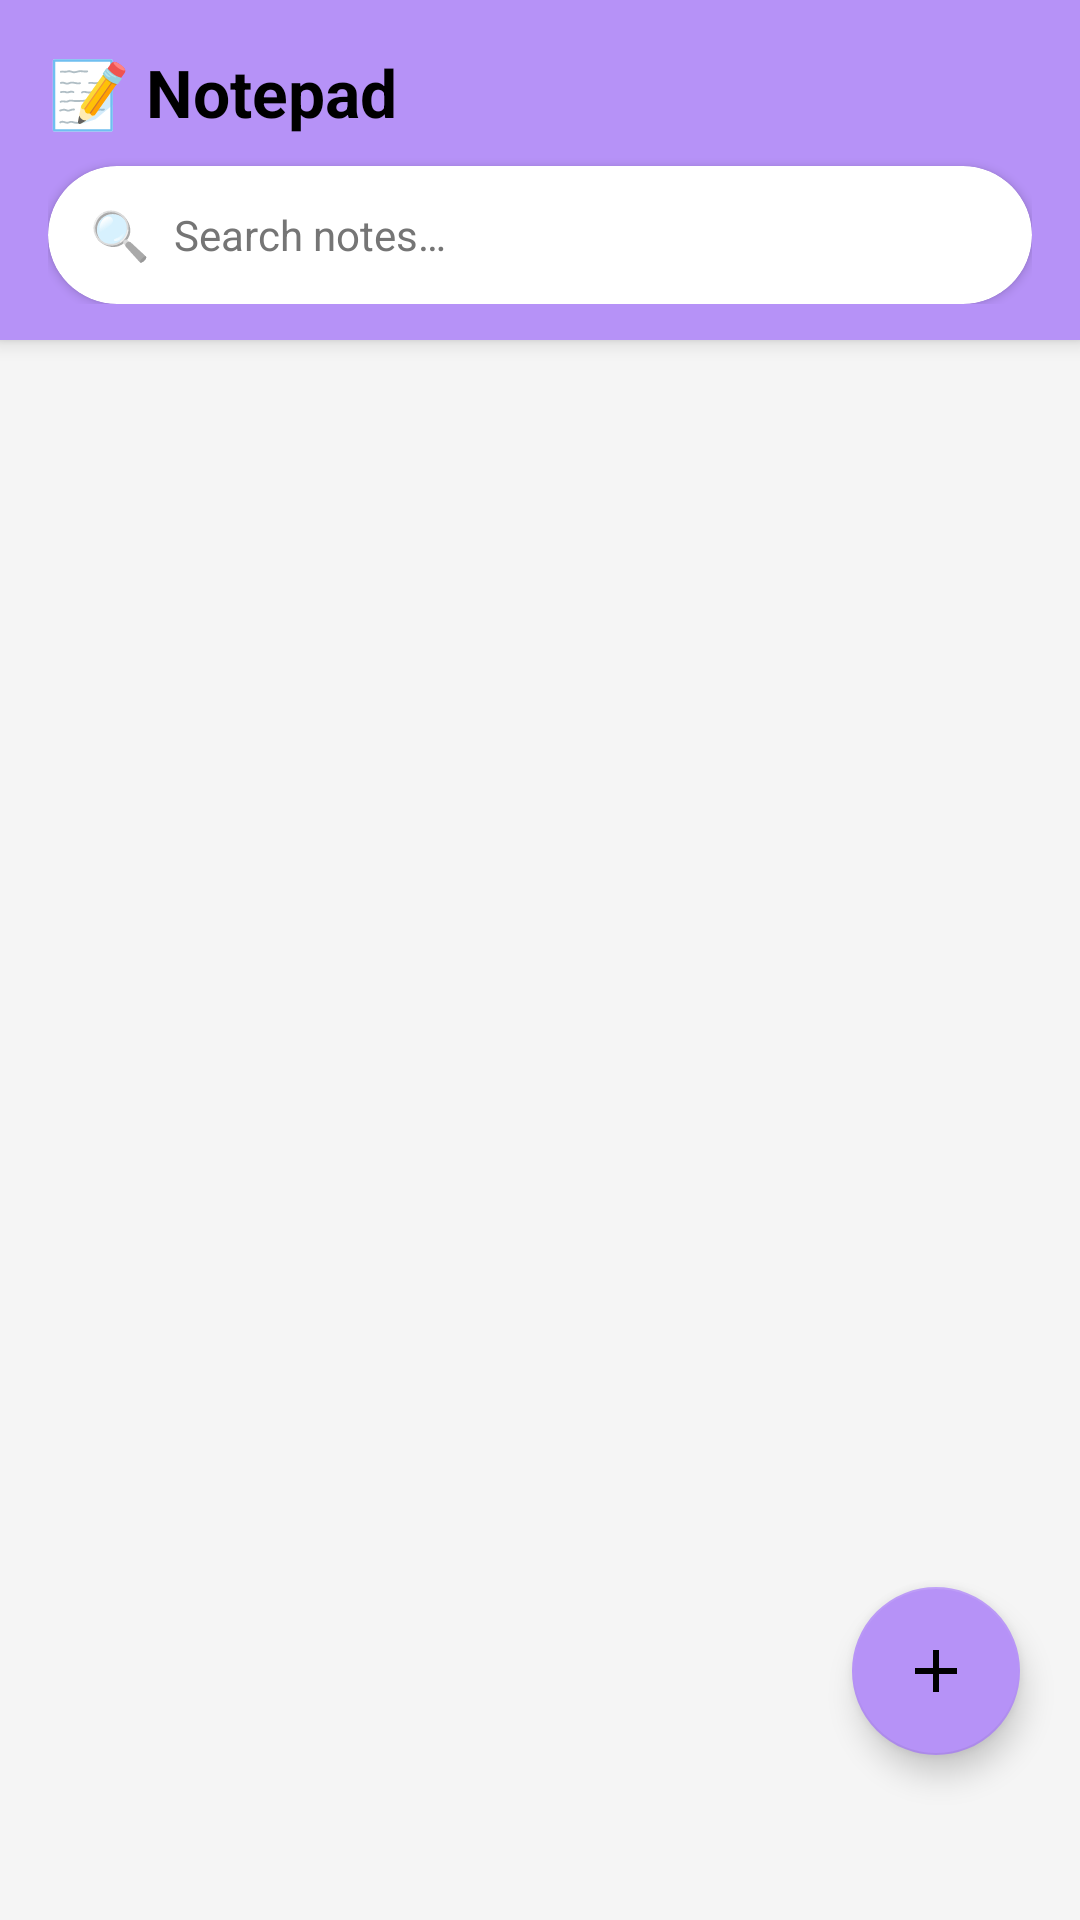

Screen size 1080x1920. Icon name, then its center in pixels as point (x, y):
New note: point (936, 1671)
